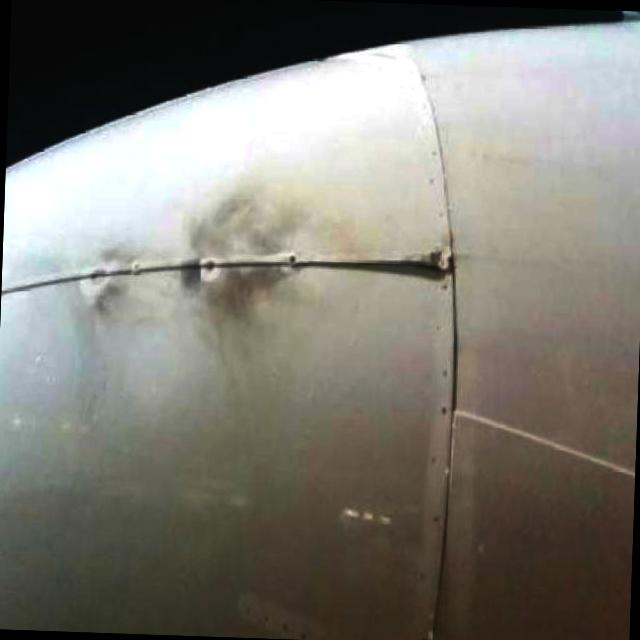crack: (296, 250, 451, 278)
